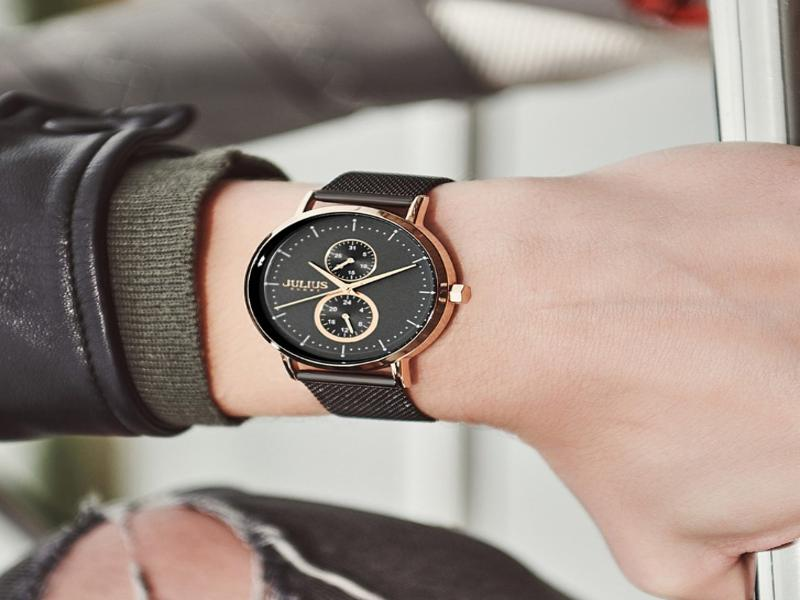watch: (243, 165, 475, 431)
